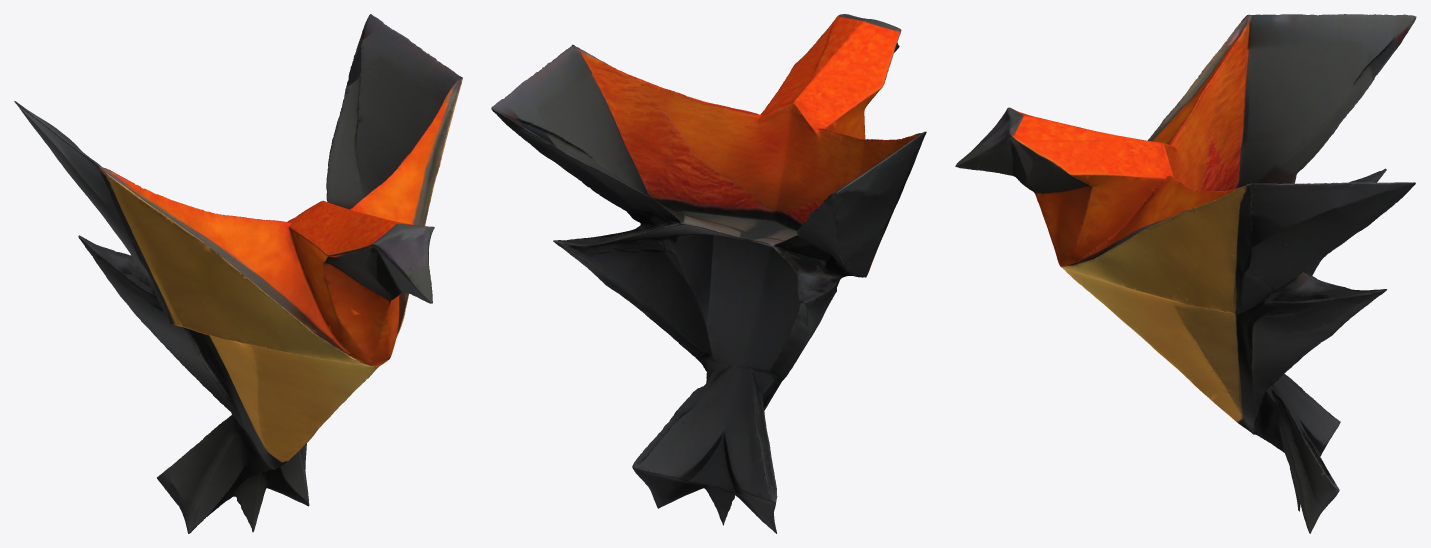
The model's file is weaverbird.glb.
3 renders of one model, left to right at view 1: azimuth 30°, elevation 25°; view 2: azimuth 150°, elevation 25°; view 3: azimuth 270°, elevation 25°, orthographic. The views are drawn at different scales.
Size of the model in its own units: 1.75 by 1.98 by 2.
1 material, 1 textured.
